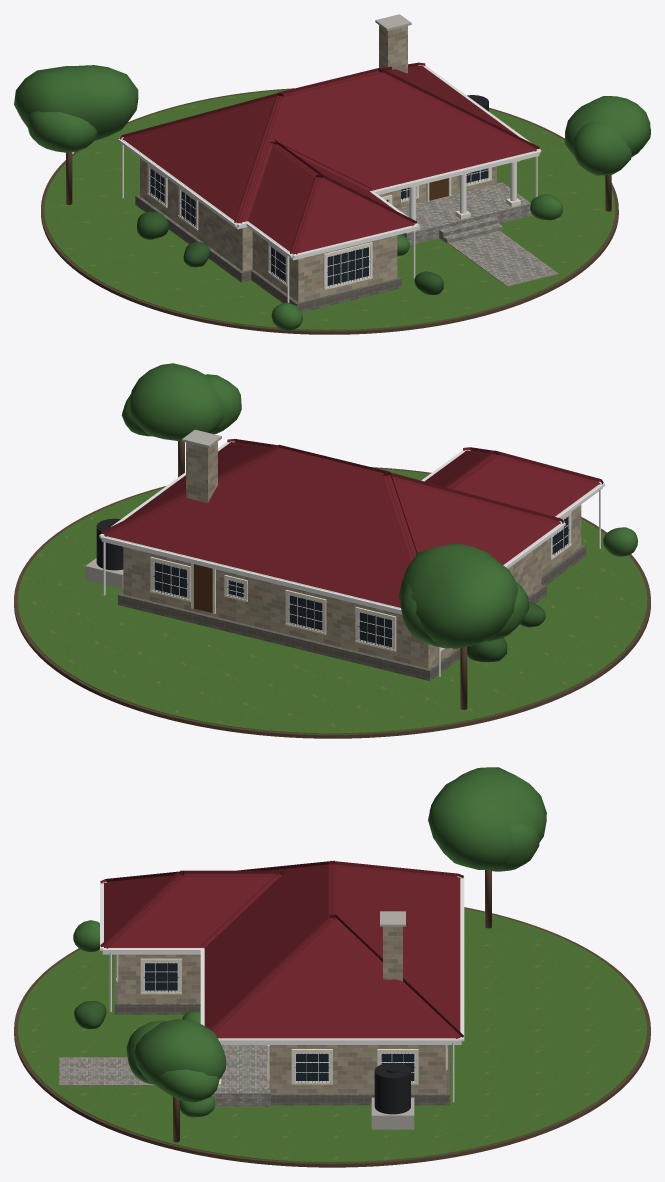
The model's file is century-house.glb.
The picture shows the model from 3 angles, top to bottom: view 1: azimuth 30°, elevation 25°; view 2: azimuth 150°, elevation 25°; view 3: azimuth 270°, elevation 25°; orthographic projection. The views are drawn at different scales.
Visible parts, largest first — view 1: House Lawn, House Roof_Main_Front, House Foliage, House Cut stone, House Roof_Main_Left, House Paving, House White paint, House Ridge and hip caps, House Soil edge, House Roof_Wing_Front, House Roof_Wing_Left, House Plinth stone (+7 smaller); view 2: House Lawn, House Roof_Main_Back, House Foliage, House Cut stone, House Roof_Main_Left, House White paint, House Soil edge, House Plinth stone, House Ridge and hip caps, House Roof_Wing_Left, House Window glass, House Plaster (+8 smaller); view 3: House Lawn, House Foliage, House Roof_Main_Right, House Roof_Main_Back, House Roof_Main_Front, House Cut stone, House Roof_Wing_Right, House Ridge and hip caps, House Paving, House Soil edge, House White paint, House Plinth stone (+8 smaller).
Boxes of the visible parts, <box> form: House Lawn: <box>44,89,615,330</box>; House Roof_Main_Front: <box>238,72,536,223</box>; House Foliage: <box>14,65,650,330</box>; House Cut stone: <box>140,25,496,302</box>; House Roof_Main_Left: <box>122,96,280,222</box>; House Paving: <box>401,182,558,286</box>; House White paint: <box>118,65,541,302</box>; House Ridge and hip caps: <box>120,62,539,254</box>; House Soil edge: <box>41,88,618,334</box>; House Roof_Wing_Front: <box>294,177,414,254</box>; House Roof_Wing_Left: <box>248,144,318,254</box>; House Plinth stone: <box>135,194,402,312</box>; House Lawn: <box>17,468,647,733</box>; House Roof_Main_Back: <box>104,449,414,607</box>; House Foliage: <box>121,363,637,648</box>; House Cut stone: <box>123,441,581,668</box>; House Roof_Main_Left: <box>387,475,560,564</box>; House White paint: <box>99,441,604,676</box>; House Soil edge: <box>14,467,650,738</box>; House Plinth stone: <box>118,544,586,680</box>; House Ridge and hip caps: <box>101,439,603,560</box>; House Roof_Wing_Left: <box>449,454,600,516</box>; House Window glass: <box>154,517,567,647</box>; House Plaster: <box>150,512,571,651</box>; House Lawn: <box>17,908,647,1162</box>; House Foliage: <box>73,767,546,1117</box>; House Roof_Main_Right: <box>213,918,459,1038</box>; House Roof_Main_Back: <box>332,865,460,1037</box>; House Roof_Main_Front: <box>204,864,332,1030</box>; House Cut stone: <box>118,926,445,1093</box>; House Roof_Wing_Right: <box>104,875,281,948</box>; House Ridge and hip caps: <box>100,860,463,1038</box>; House Paving: <box>59,1045,270,1106</box>; House Soil edge: <box>14,907,650,1167</box>; House White paint: <box>100,876,464,1102</box>; House Plinth stone: <box>114,954,449,1105</box>.
Bounding box in the file's own units: 25.4 × 7.21 × 25.3.
Materials: 17 (5 with a texture image).
